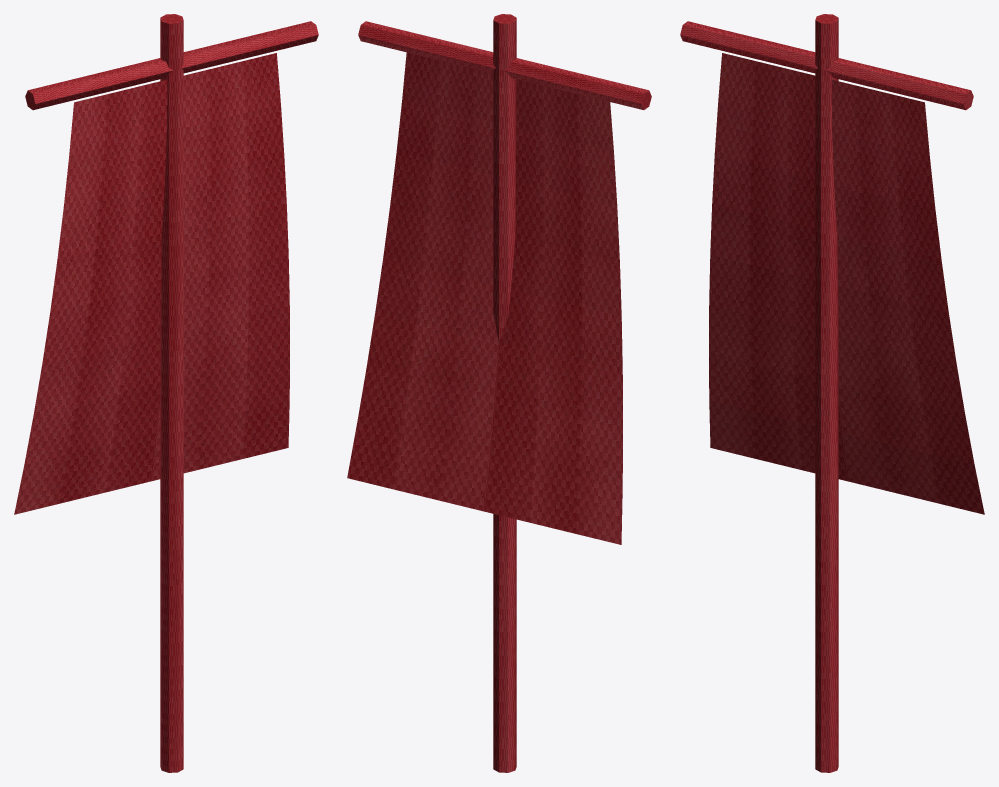
The model's file is estandarte.glb.
3 views of the same model, side by side, from view 1: azimuth 30°, elevation 25°; view 2: azimuth 150°, elevation 25°; view 3: azimuth 330°, elevation 25° (orthographic).
Visible parts, largest first — view 1: Cloth_Banner, BannerPole; view 2: Cloth_Banner, BannerPole; view 3: Cloth_Banner, BannerPole.
Part boxes in pixels (x1,y1,x2,y2): Cloth_Banner: (14, 53, 289, 514); BannerPole: (25, 14, 318, 772); Cloth_Banner: (347, 52, 622, 544); BannerPole: (358, 14, 651, 772); Cloth_Banner: (709, 53, 984, 514); BannerPole: (680, 14, 973, 772).
Size of the model in its own units: 0.95 by 2.4 by 0.155.
2 materials, 2 textured.
